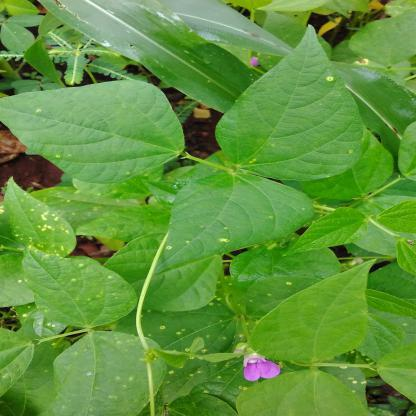Beans_Rust: (218, 24, 365, 181), (0, 85, 184, 180), (153, 174, 313, 268), (20, 246, 138, 326), (54, 331, 164, 416), (125, 278, 238, 358), (154, 354, 269, 416), (3, 180, 78, 265), (242, 271, 332, 331), (312, 352, 380, 416)
